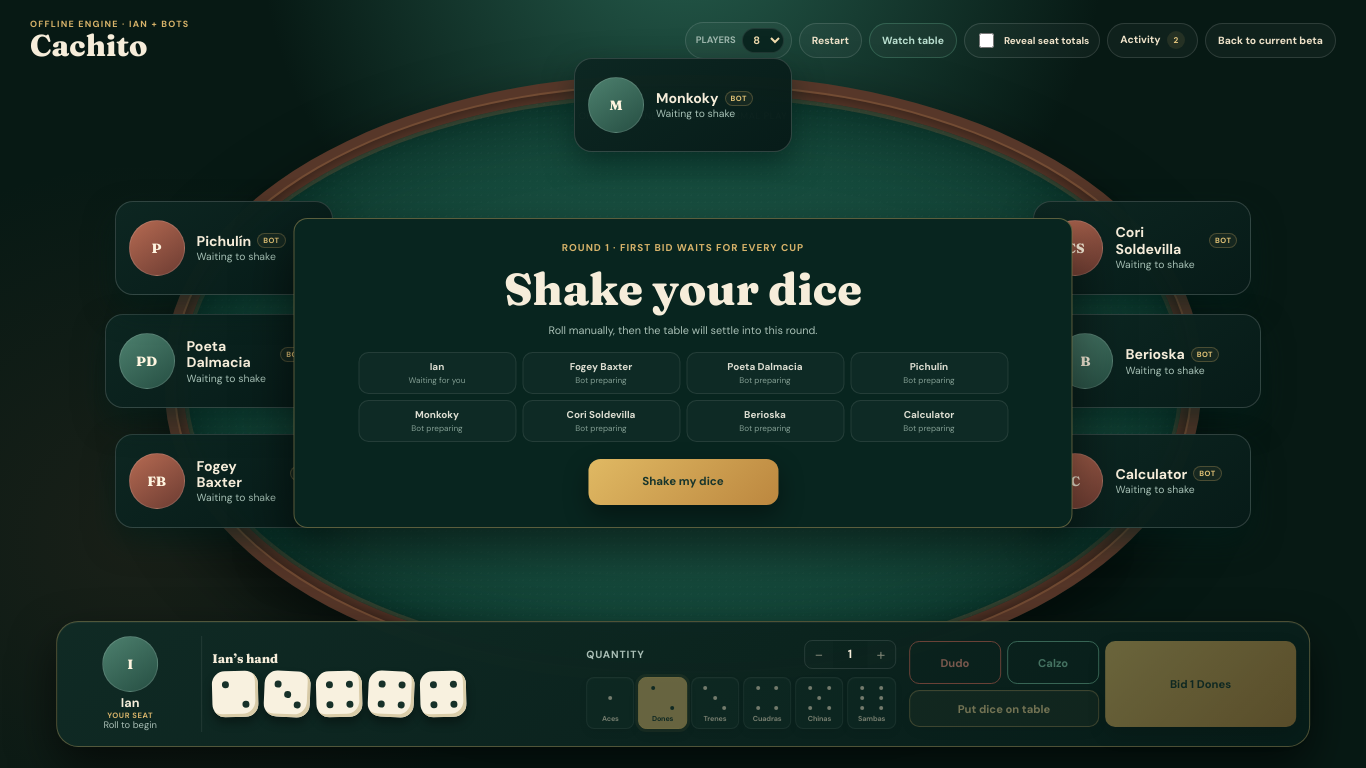
TablePrototype › opens and collapses the activity feed without changing the table
Click the button "Activity 2". click: (1153, 40)
box: [1107,22,1198,58]
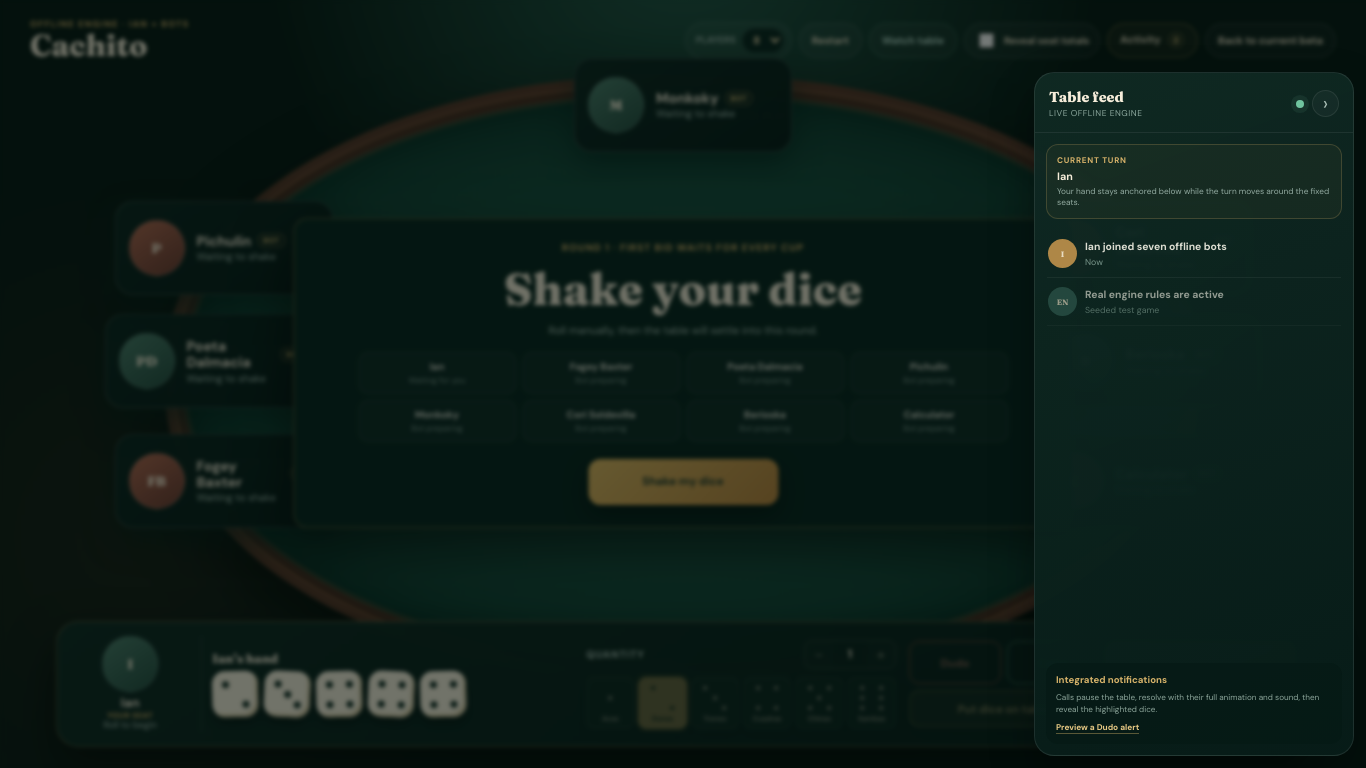
Expected: the button "Activity 2" is expanded, [1107,22,1198,58]
Click the button named "Collapse table feed". click: (1326, 104)
box: [1312,90,1339,117]
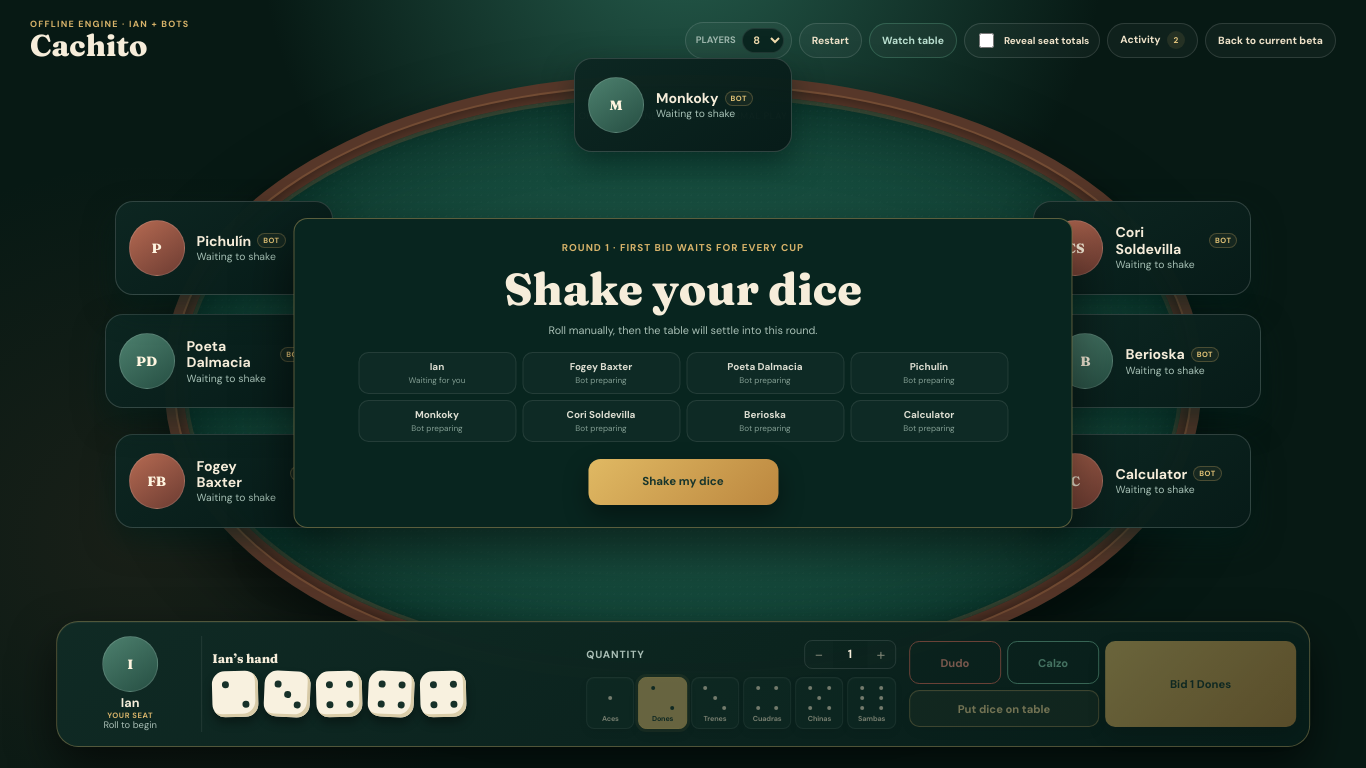
Expected: the button "Activity 2" is collapsed, [1107,22,1198,58]
